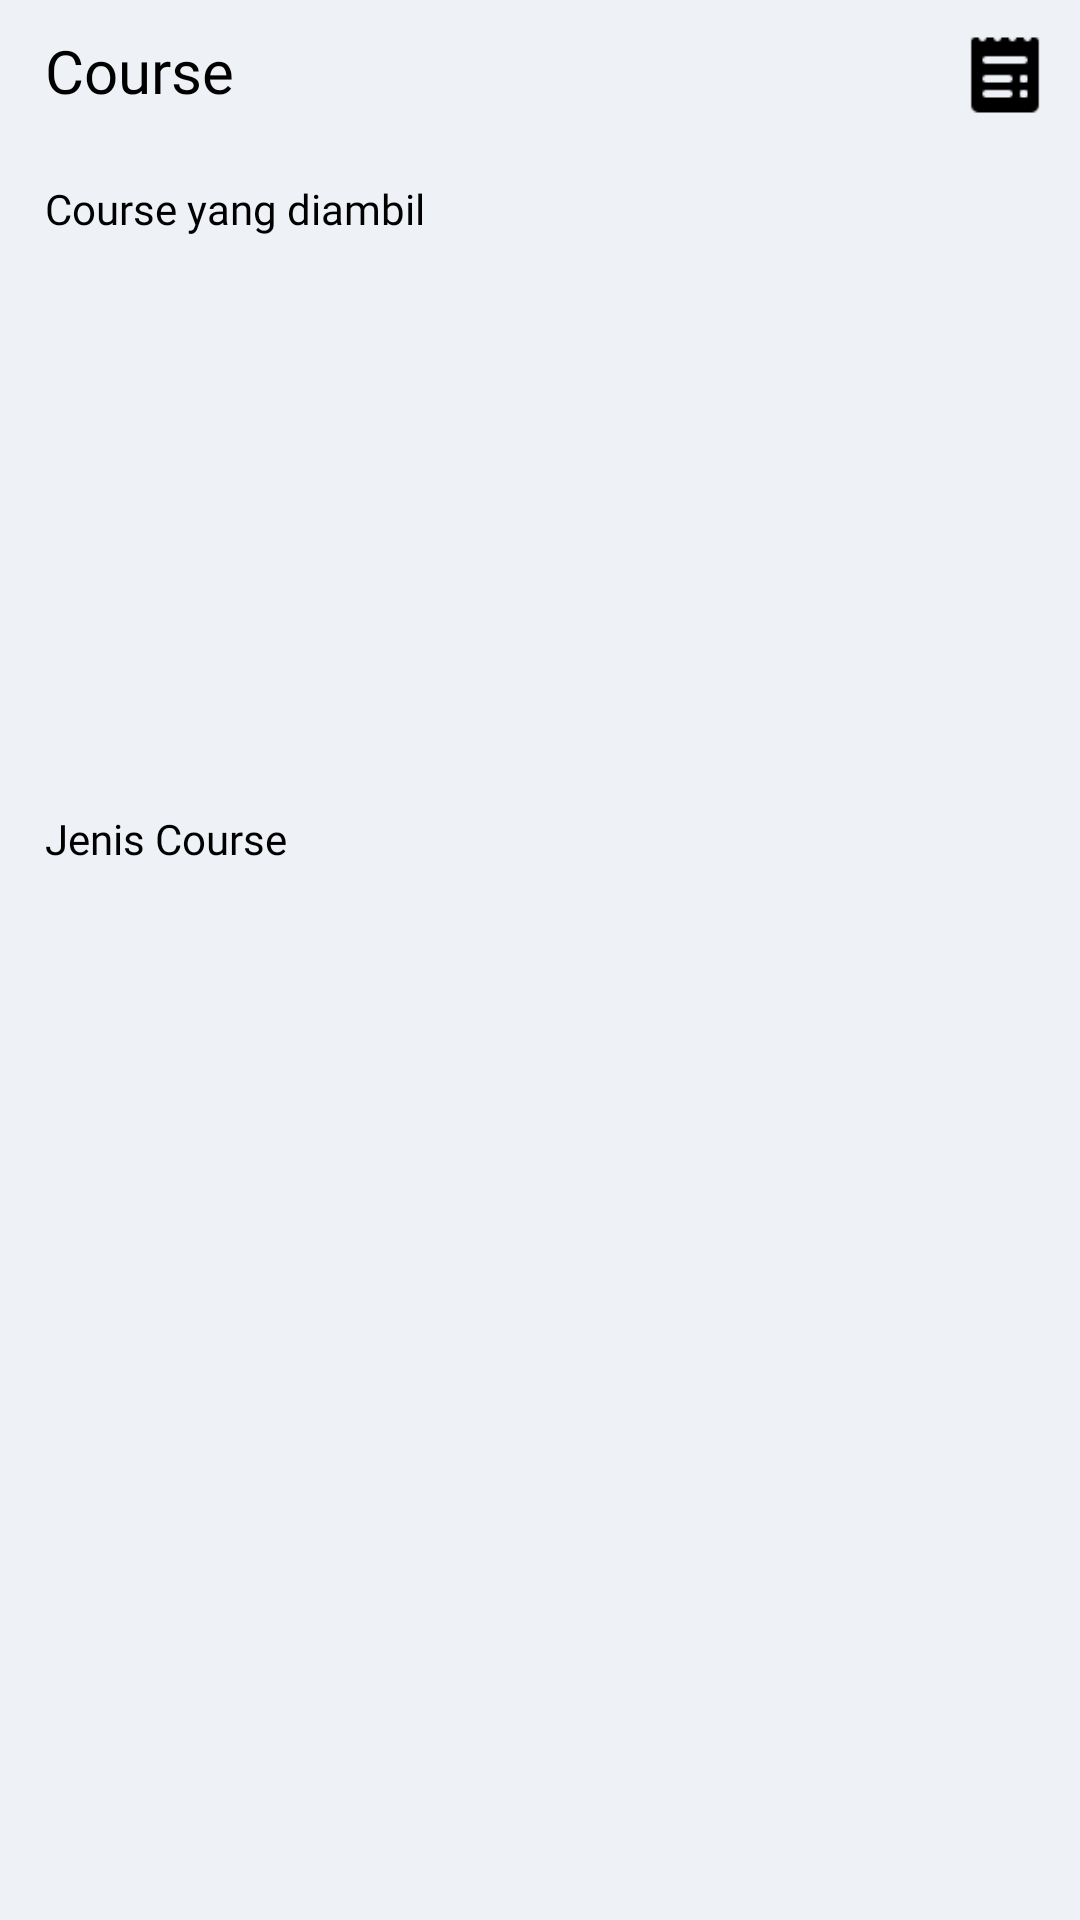

Screen size 1080w x 1920h. Icon name, then its center in pixels as point (x, y):
bill: point (1005, 75)
